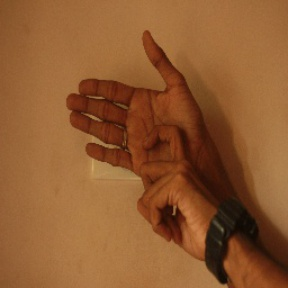R: (68, 25, 212, 239)
